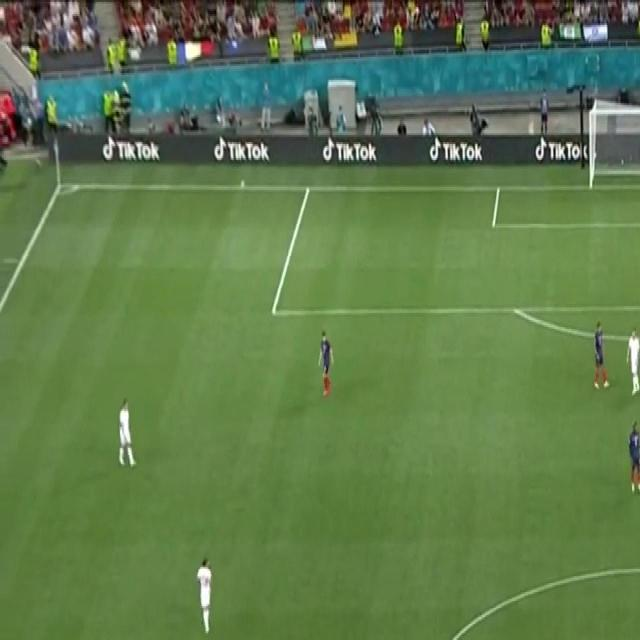player-white: (117, 398, 139, 470), (196, 556, 214, 636), (593, 319, 611, 392), (318, 327, 334, 399), (625, 328, 640, 397), (627, 418, 640, 496)
